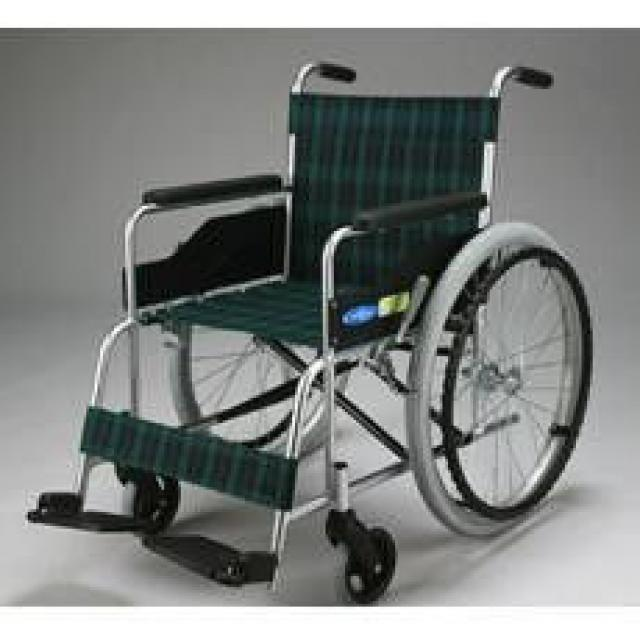wheelchair: (25, 44, 593, 606)
